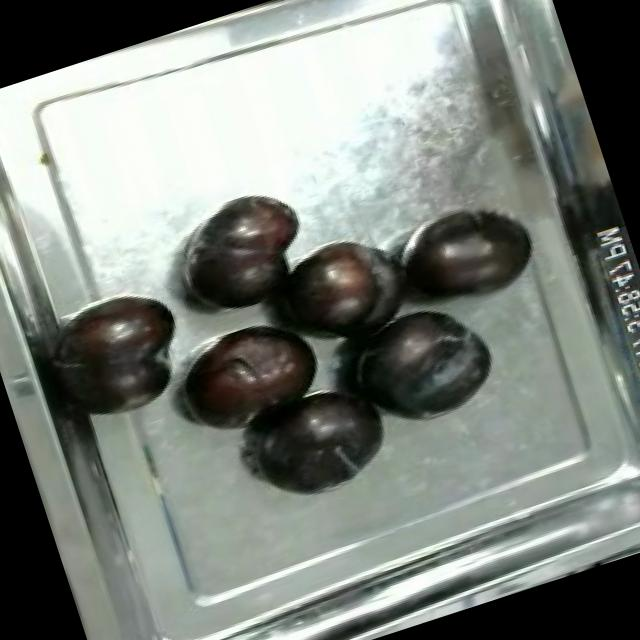Fruit: (161, 298, 342, 457), (332, 287, 510, 445), (238, 366, 411, 516), (40, 274, 206, 430), (160, 176, 328, 329), (390, 188, 549, 321), (264, 224, 408, 354)
